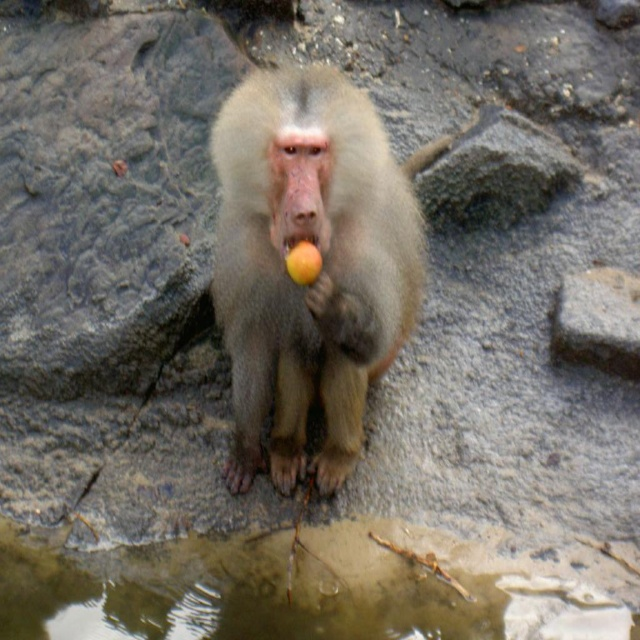Monkey: (211, 55, 429, 492)
